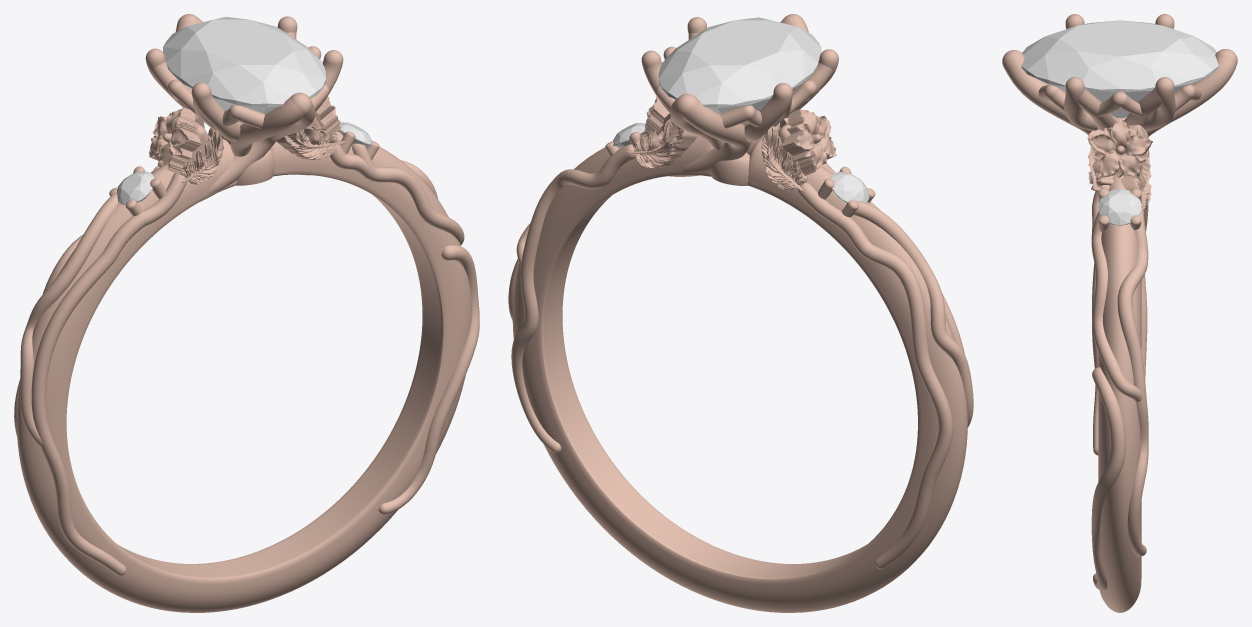
The model's file is DavidRGeng_blender.glb.
3 renders of one model, left to right at view 1: azimuth 30°, elevation 25°; view 2: azimuth 150°, elevation 25°; view 3: azimuth 270°, elevation 25°, orthographic. The views are drawn at different scales.
Visible parts, largest first — view 1: David RG for 3d model, David dia for 3d model, David dia for 3d model.001; view 2: David RG for 3d model, David dia for 3d model, David dia for 3d model.001; view 3: David RG for 3d model, David dia for 3d model, David dia for 3d model.002.
Part boxes in pixels (bbox=[...]): David RG for 3d model: bbox=[14, 14, 479, 612]; David dia for 3d model: bbox=[163, 17, 325, 123]; David dia for 3d model.001: bbox=[116, 171, 154, 204]; David RG for 3d model: bbox=[508, 14, 973, 612]; David dia for 3d model: bbox=[658, 17, 821, 123]; David dia for 3d model.001: bbox=[830, 171, 869, 202]; David RG for 3d model: bbox=[1002, 14, 1237, 612]; David dia for 3d model: bbox=[1021, 20, 1218, 117]; David dia for 3d model.002: bbox=[1098, 189, 1141, 225].
Bounding box in the file's own units: 21.72 × 25.42 × 9.85.
